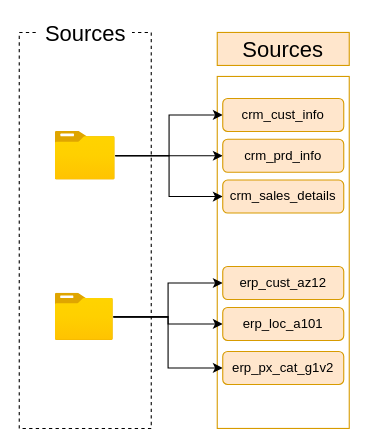
The diagram is 369 pixels wide and 448 high, and some of its shapes have lost their labels. The centre of each missing label's shape, as x and y in pixels:
"CRM" belongs at pixel 85 155.
"ERP" belongs at pixel 84 316.
